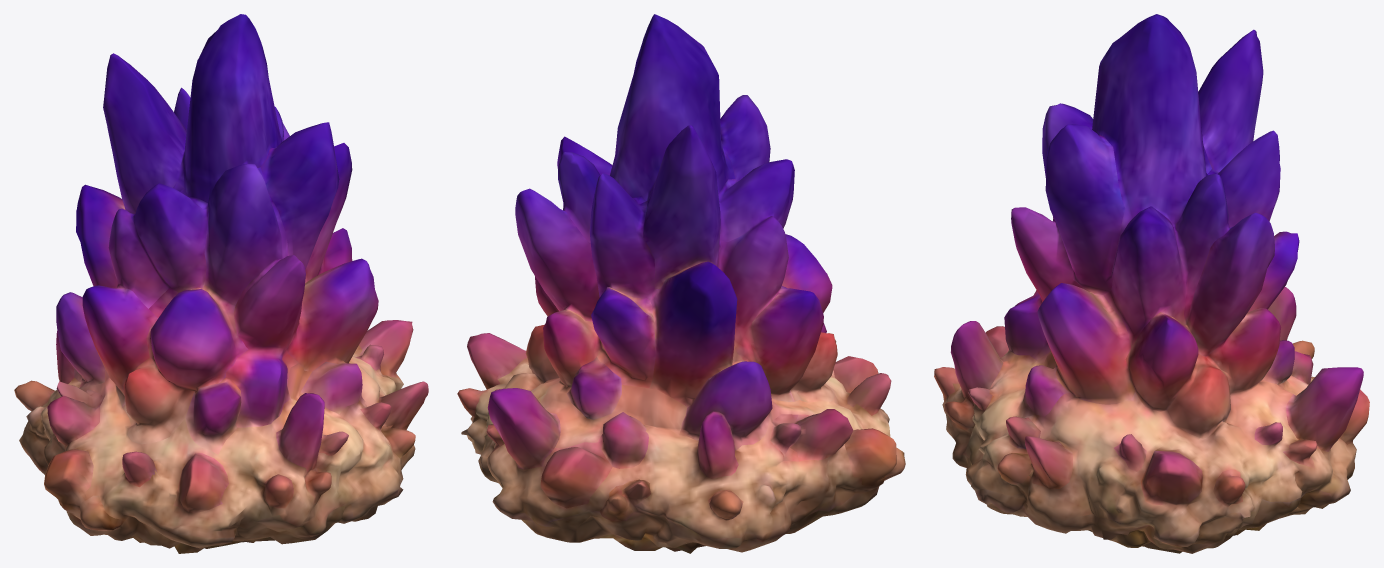
The model's file is SM_WorldTreeRock_b8b204.glb.
The picture shows the model from 3 angles, left to right: view 1: azimuth 30°, elevation 25°; view 2: azimuth 150°, elevation 25°; view 3: azimuth 270°, elevation 25°; orthographic projection. The views are drawn at different scales.
Bounding box in the file's own units: 2.12 × 2.69 × 1.98.
Materials: 1 (1 with a texture image).
